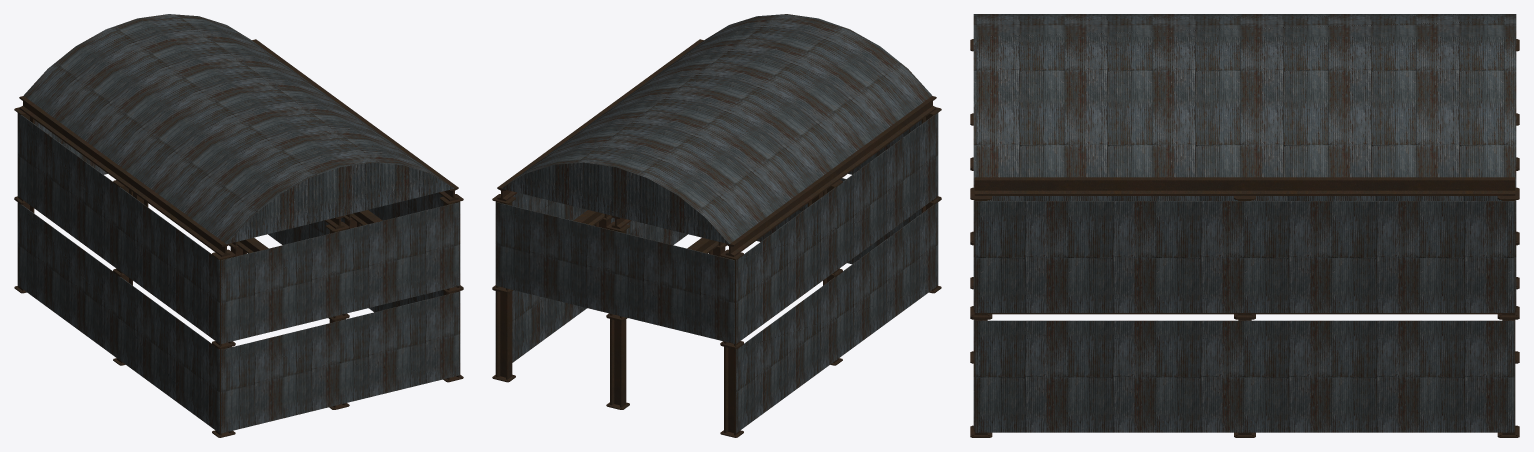
File: warehouse_hl_1_single.glb
3 views of the same model, side by side, from view 1: azimuth 30°, elevation 25°; view 2: azimuth 150°, elevation 25°; view 3: azimuth 270°, elevation 25° (orthographic). The views are drawn at different scales.
Parts seen in each view (by area): view 1: warehouse_hl_1_single; view 2: warehouse_hl_1_single; view 3: warehouse_hl_1_single.
Boxes of the visible parts, x1,y1,x2,y2 form: warehouse_hl_1_single: [14, 14, 463, 437]; warehouse_hl_1_single: [492, 14, 941, 437]; warehouse_hl_1_single: [970, 14, 1519, 437].
Bounding box in the file's own units: 8.6 × 8.06 × 12.5.
Materials: 2 (2 with a texture image).
